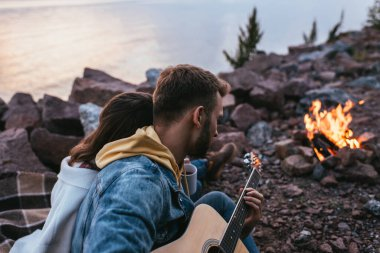fire: (303, 98, 363, 152)
